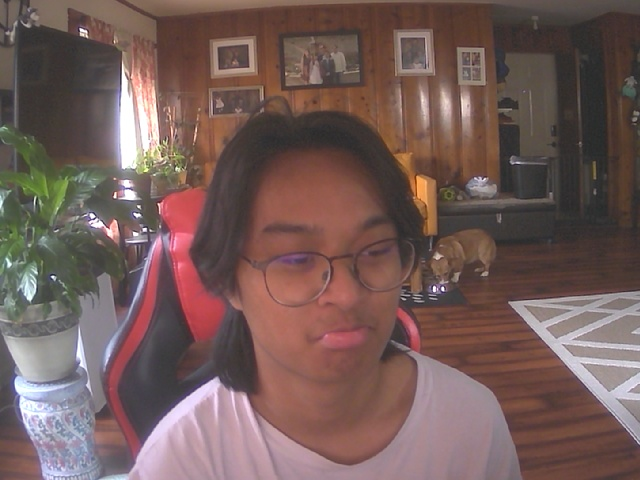sad: (213, 130, 423, 388)
